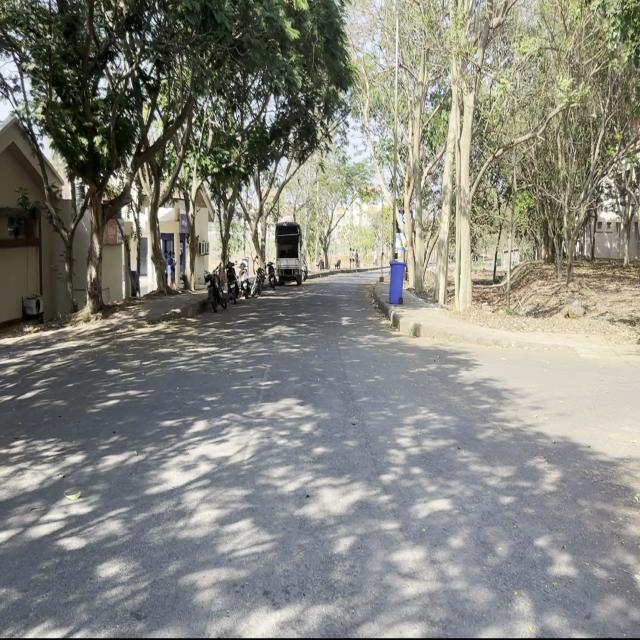Object: (274, 208, 306, 294), (223, 258, 241, 316), (202, 261, 222, 313), (252, 246, 262, 306), (240, 248, 248, 306)
Road: (3, 272, 510, 632)
